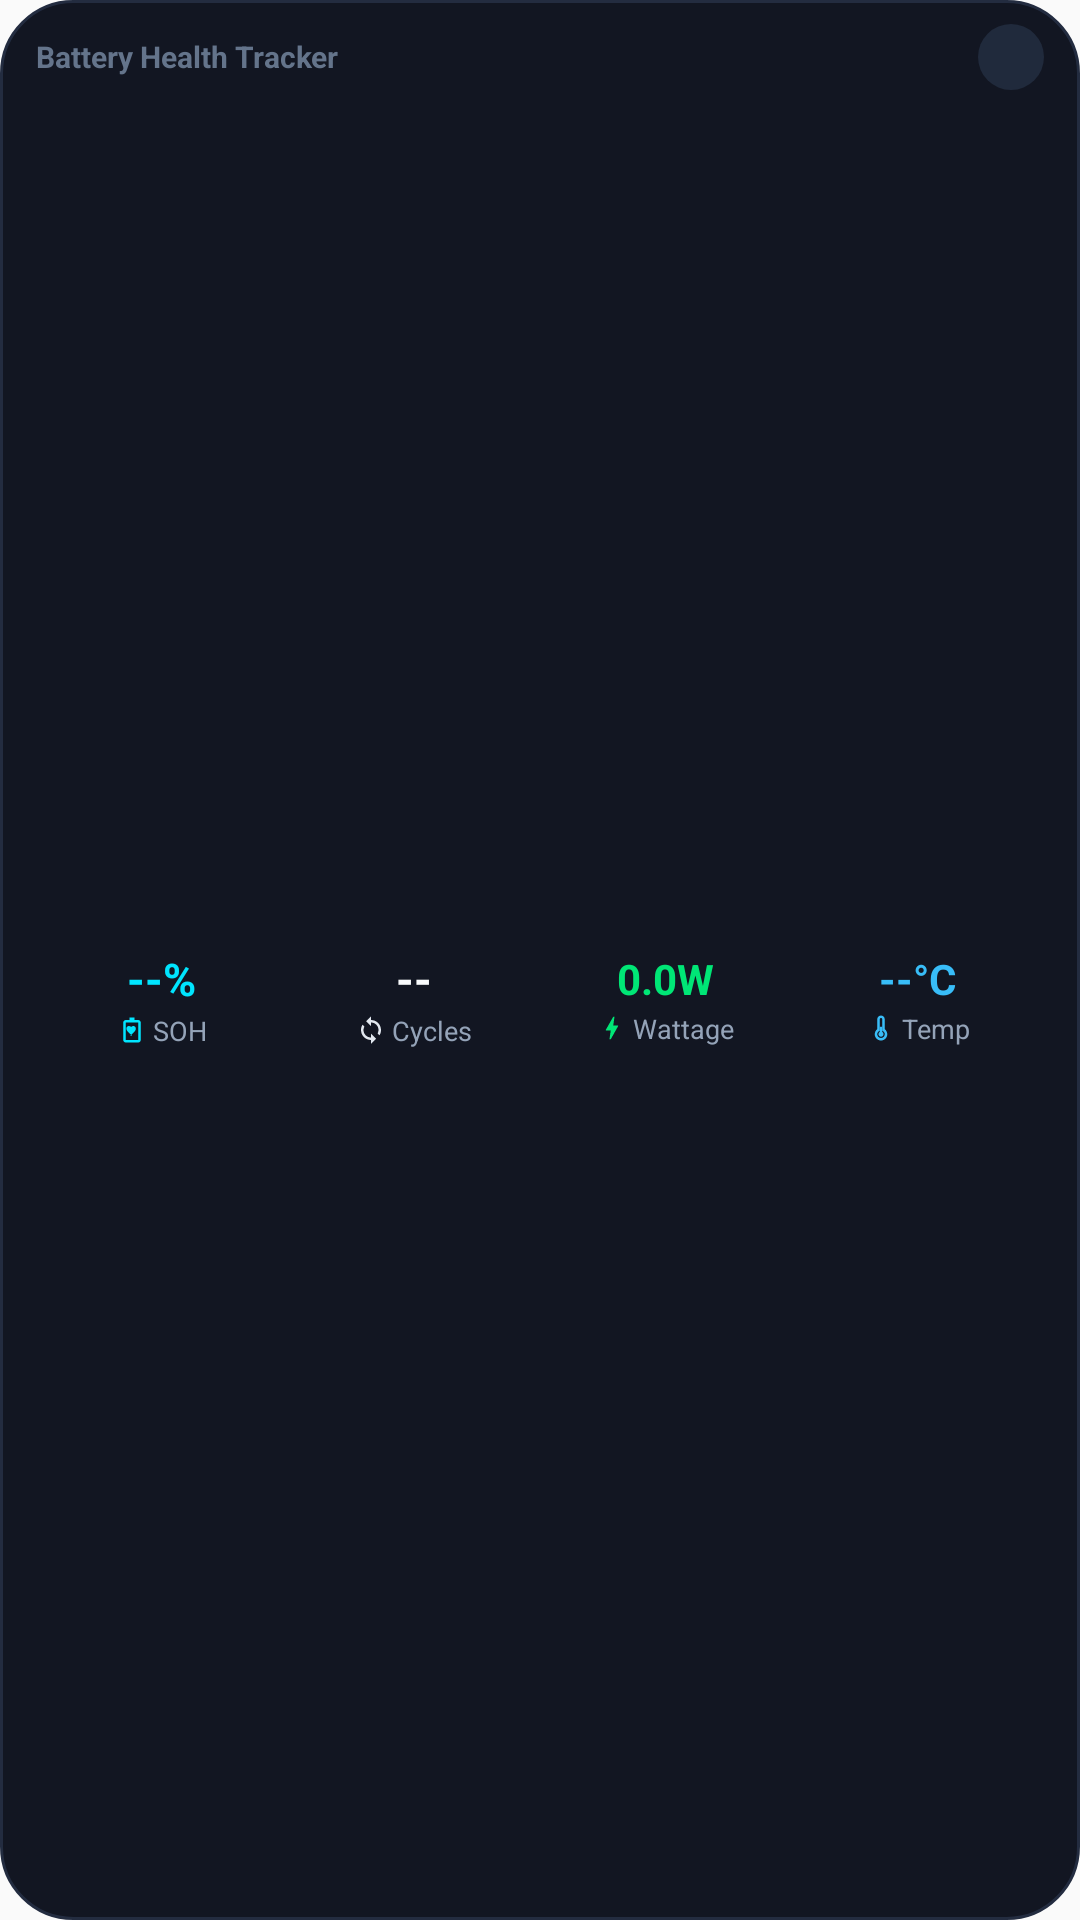

Screen size 1080px x 1920px. Icon name, then its box in pixels as [left=x1, top=y1, right=x2, bottom=y2]:
widget bolt: [left=606, top=1016, right=618, bottom=1040]
widget heart battery: [left=123, top=1017, right=141, bottom=1043]
